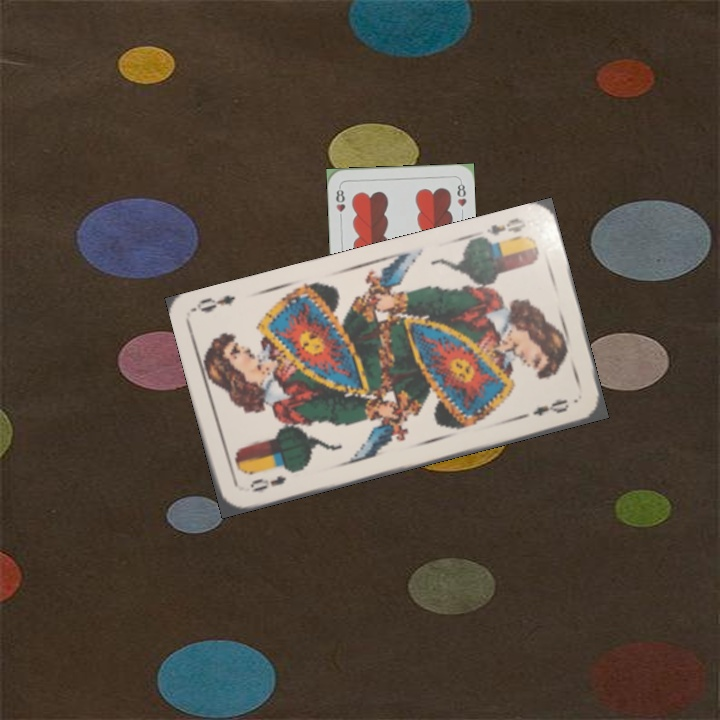EO: (482, 214, 529, 239), (246, 471, 289, 495)
H8: (332, 183, 347, 223)
